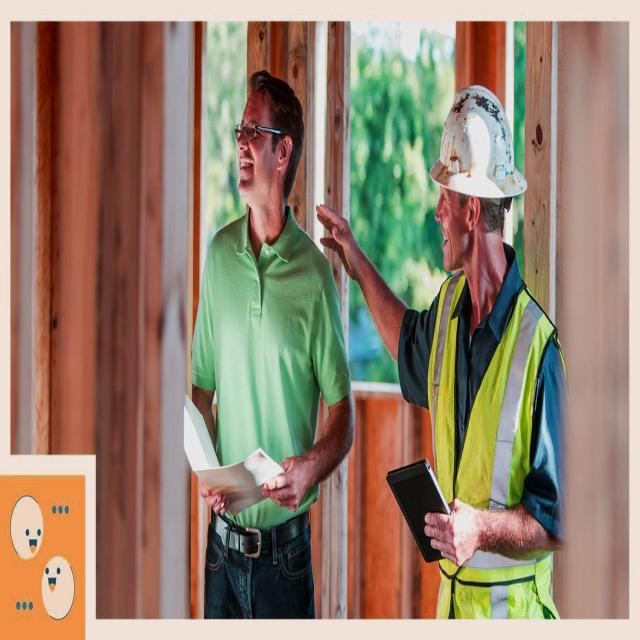face_nomask: (230, 110, 278, 203)
glasses: (232, 113, 260, 145)
hand_noglove: (421, 493, 484, 569), (310, 199, 365, 271), (271, 434, 311, 523)
head_helmet: (430, 82, 526, 198)
head_nohelmet: (244, 60, 303, 110)
person: (384, 86, 568, 622), (187, 72, 350, 627)
vest: (428, 268, 559, 631)
